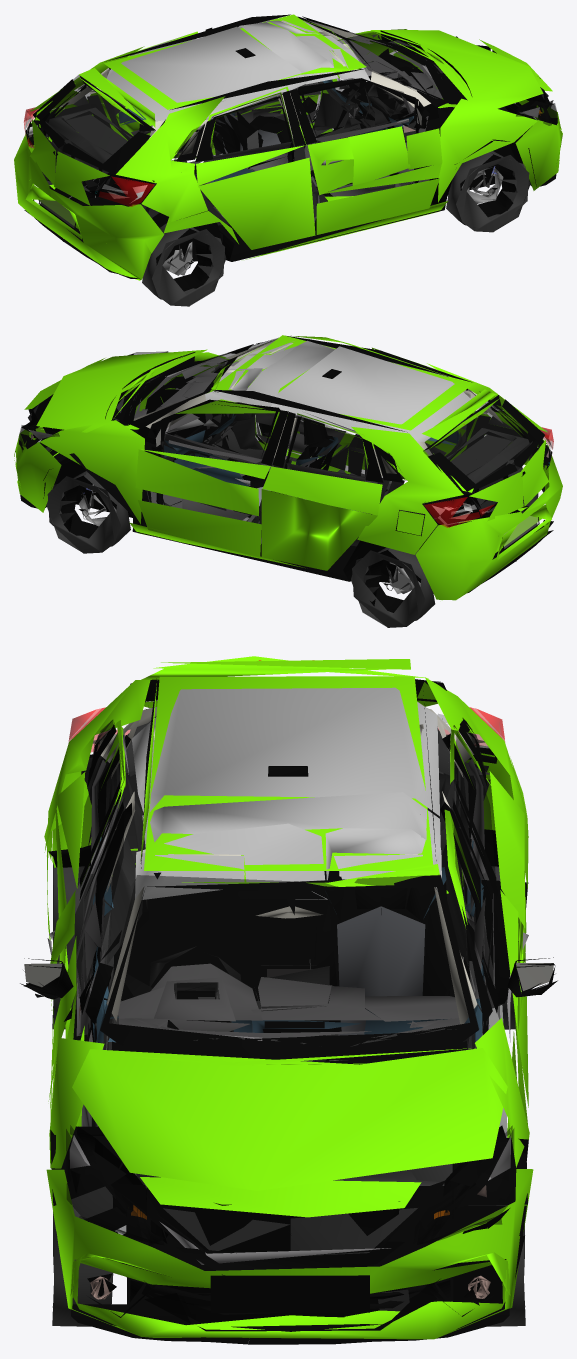
File: baleno.glb
3 renders of one model, top to bottom at view 1: azimuth 30°, elevation 25°; view 2: azimuth 150°, elevation 25°; view 3: azimuth 270°, elevation 25°, orthographic. The views are drawn at different scales.
Parts seen in each view (by area): view 1: car_detail, car_paint, car_glass; view 2: car_detail, car_paint, car_glass; view 3: car_detail, car_paint, car_glass.
Boxes of the visible parts, <box> form: car_detail: <box>24,14,557,306</box>; car_paint: <box>14,14,562,280</box>; car_glass: <box>24,17,558,227</box>; car_detail: <box>19,336,553,627</box>; car_paint: <box>14,335,562,600</box>; car_glass: <box>18,337,553,548</box>; car_detail: <box>20,678,557,1344</box>; car_paint: <box>44,656,533,1339</box>; car_glass: <box>66,660,514,1295</box>.
Bounding box in the file's own units: 3.99 × 1.46 × 1.94.
